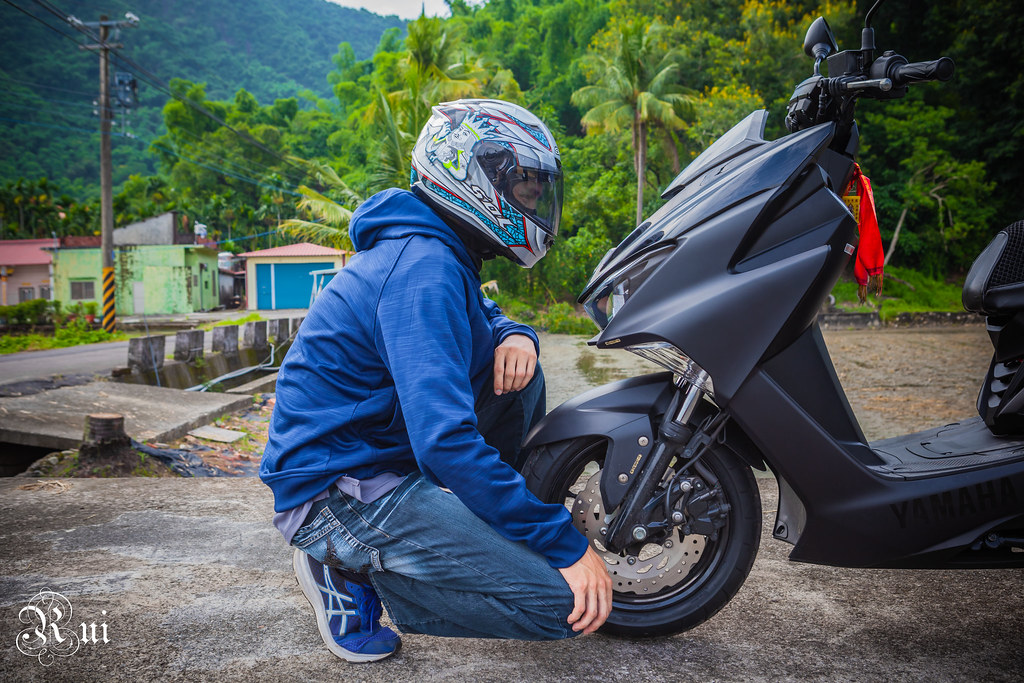helmet: (412, 99, 561, 254)
